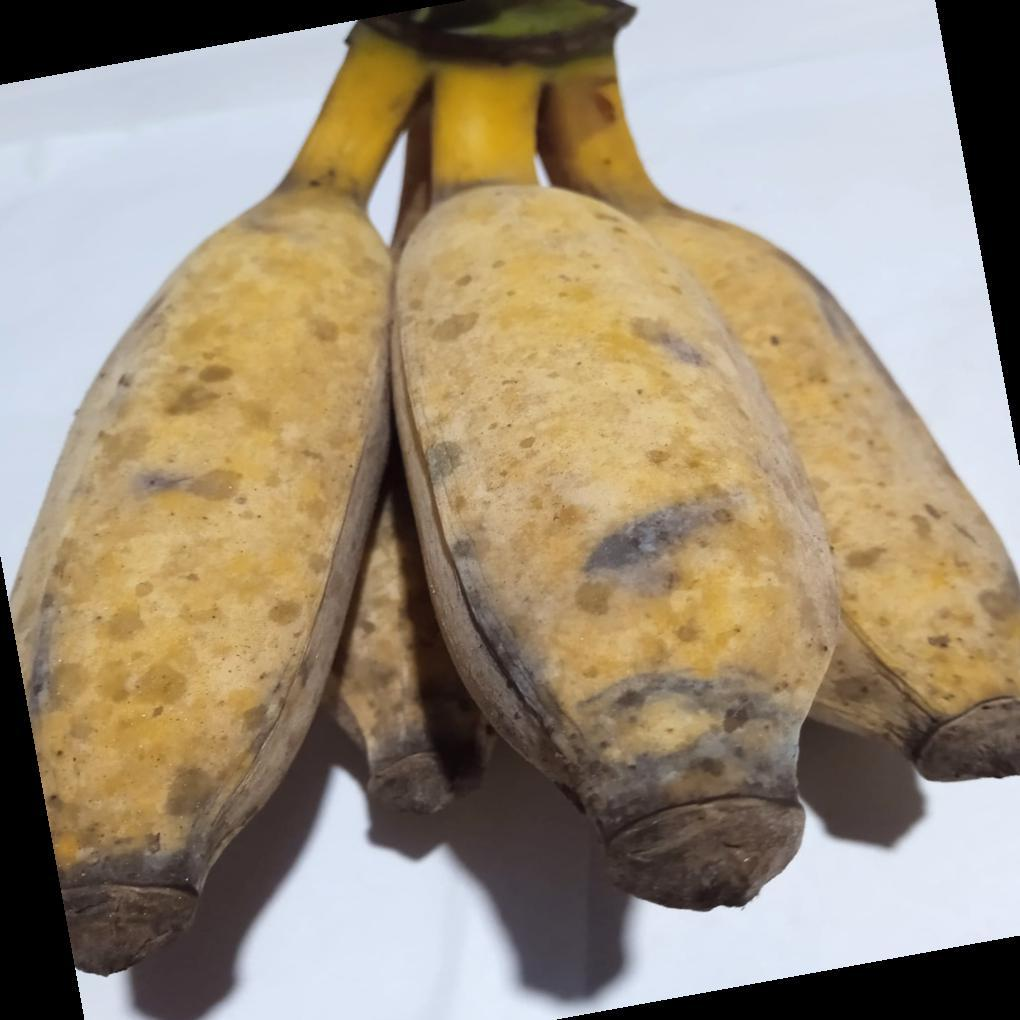Banana Ripe: (0, 3, 1020, 969), (403, 8, 1020, 968), (11, 26, 450, 1000), (639, 91, 1020, 819)
